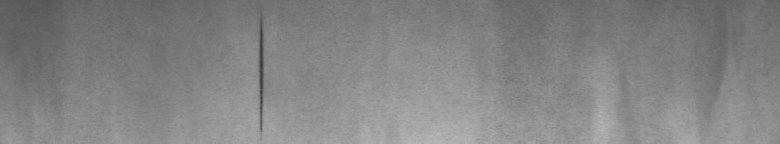hd: (252, 14, 272, 133)
